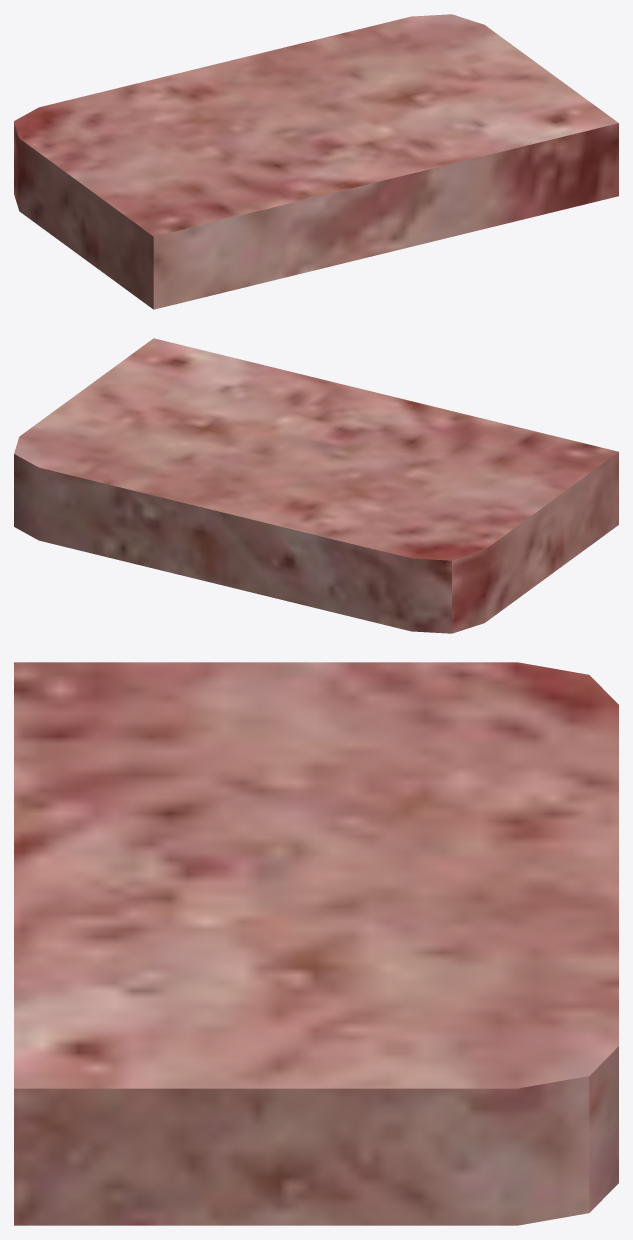
Rendered from SM_Lunch_Meat_01.fbx.
3 renders of one model, top to bottom at view 1: azimuth 30°, elevation 25°; view 2: azimuth 150°, elevation 25°; view 3: azimuth 270°, elevation 25°, orthographic. The views are drawn at different scales.
Parts seen in each view (by area): view 1: SM_Lunch_Meat_01; view 2: SM_Lunch_Meat_01; view 3: SM_Lunch_Meat_01.
Boxes of the visible parts, x1,y1,x2,y2 form: SM_Lunch_Meat_01: (14, 14, 618, 309); SM_Lunch_Meat_01: (14, 338, 618, 633); SM_Lunch_Meat_01: (14, 662, 618, 1225).
Bounding box in the file's own units: 10 × 1.5 × 6.
